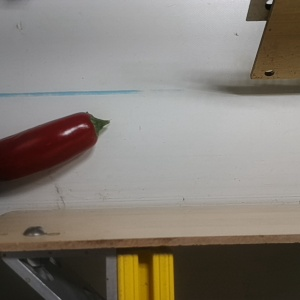Cut Point: (74, 110, 108, 146)
